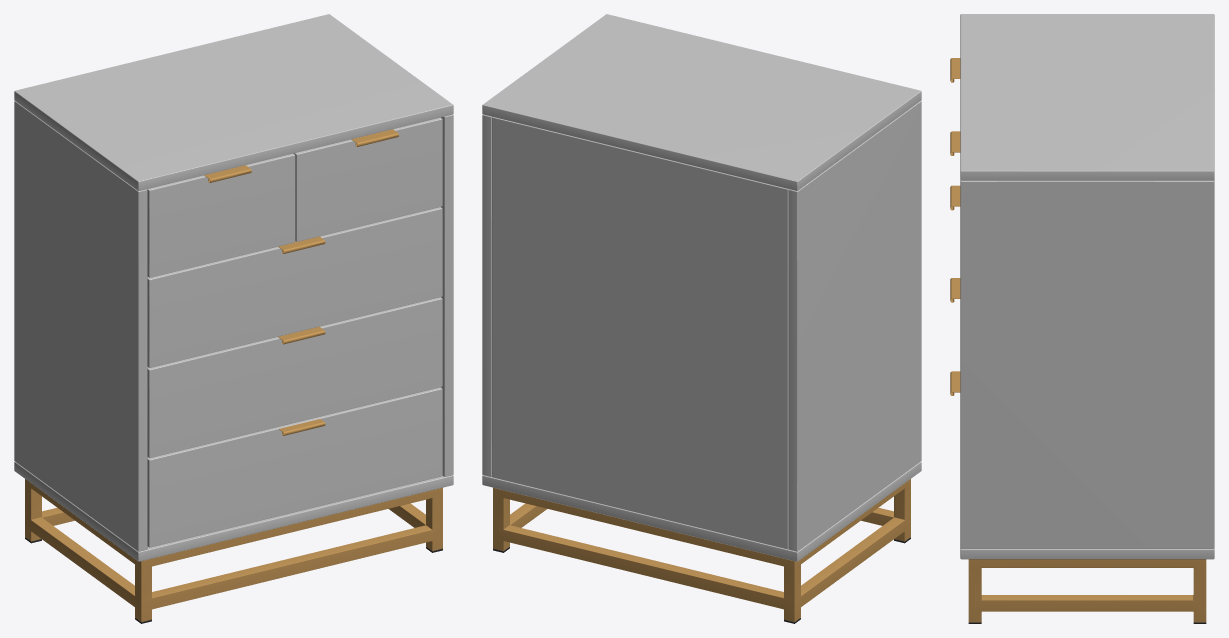
The model's file is latawn_drawer.glb.
3 renders of one model, left to right at view 1: azimuth 30°, elevation 25°; view 2: azimuth 150°, elevation 25°; view 3: azimuth 270°, elevation 25°, orthographic. The views are drawn at different scales.
Visible parts, largest first — view 1: Latawn 5 Drawer 23.6 W Chest; view 2: Latawn 5 Drawer 23.6 W Chest; view 3: Latawn 5 Drawer 23.6 W Chest.
Part boxes in pixels (box(x1,y1,x2,y2)): Latawn 5 Drawer 23.6 W Chest: box(14, 14, 453, 623); Latawn 5 Drawer 23.6 W Chest: box(482, 14, 921, 623); Latawn 5 Drawer 23.6 W Chest: box(950, 14, 1214, 623).
Bounding box in the file's own units: 0.5842 × 0.7906 × 0.4146.
